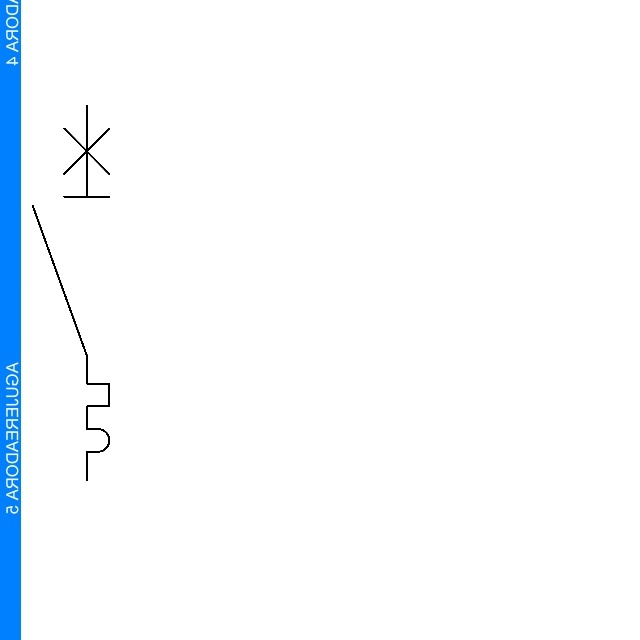interruptor_termomagnetico: (23, 96, 119, 490)
